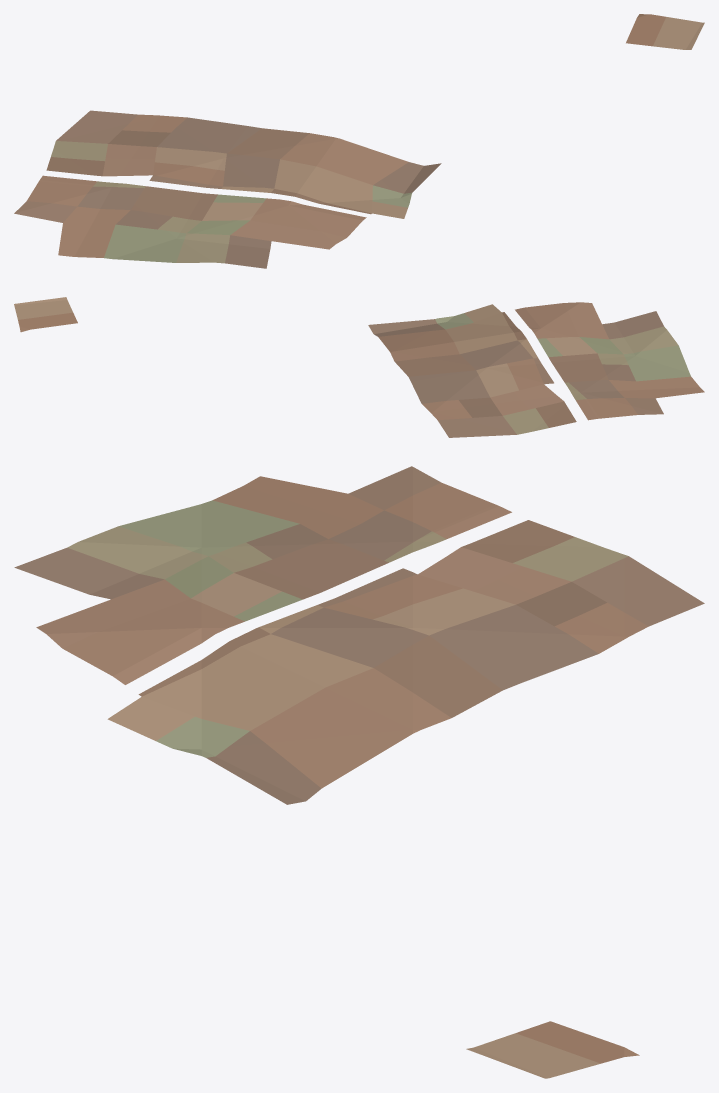
The model's file is farm_9_18_soil.glb.
3 views of the same model, one above another, from view 1: azimuth 30°, elevation 25°; view 2: azimuth 150°, elevation 25°; view 3: azimuth 270°, elevation 25° (orthographic). The views are drawn at different scales.
Visible parts, largest first — view 1: geometry_0; view 2: geometry_0; view 3: geometry_0.
Boxes of the visible parts, x1,y1,x2,y2 form: geometry_0: [14, 14, 704, 268]; geometry_0: [14, 297, 704, 437]; geometry_0: [14, 466, 704, 1078].
Bounding box in the file's own units: 525 × 17.04 × 262.
